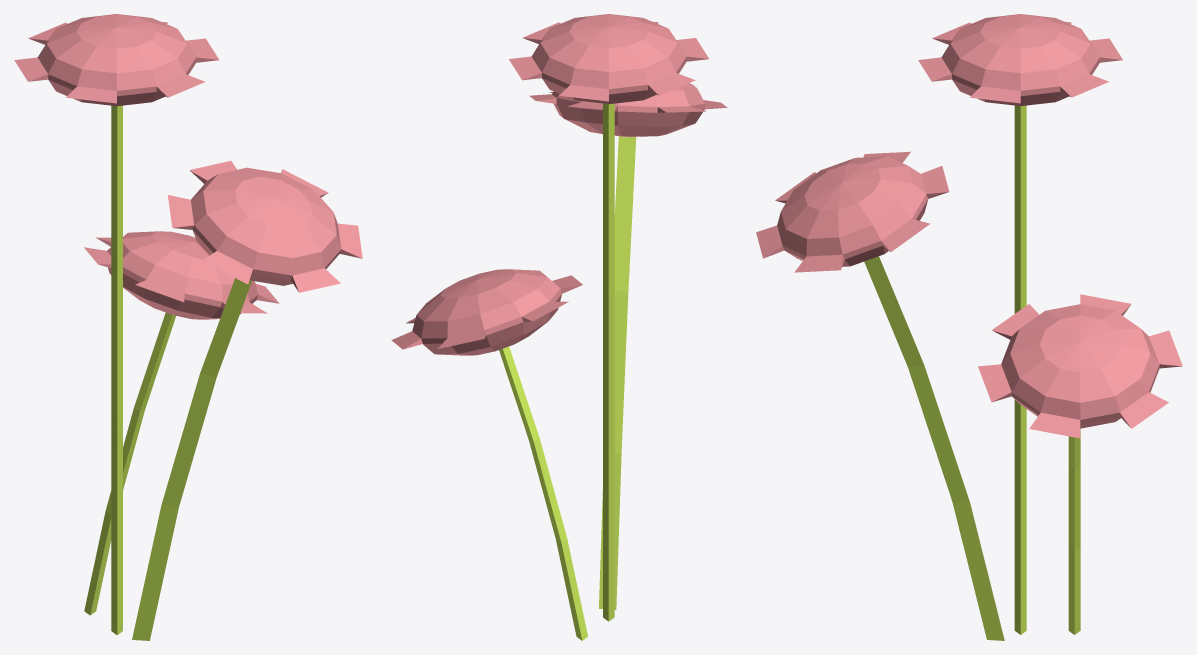
The model's file is flower_red.fbx.
3 views of the same model, side by side, from view 1: azimuth 30°, elevation 25°; view 2: azimuth 150°, elevation 25°; view 3: azimuth 270°, elevation 25° (orthographic). The views are drawn at different scales.
Visible parts, largest first — view 1: flower_red; view 2: flower_red; view 3: flower_red.
Boxes of the visible parts, x1,y1,x2,y2 form: flower_red: [14, 14, 362, 640]; flower_red: [391, 14, 727, 640]; flower_red: [756, 14, 1182, 640].
Size of the model in its own units: 0.0996 by 0.2155 by 0.1379.
